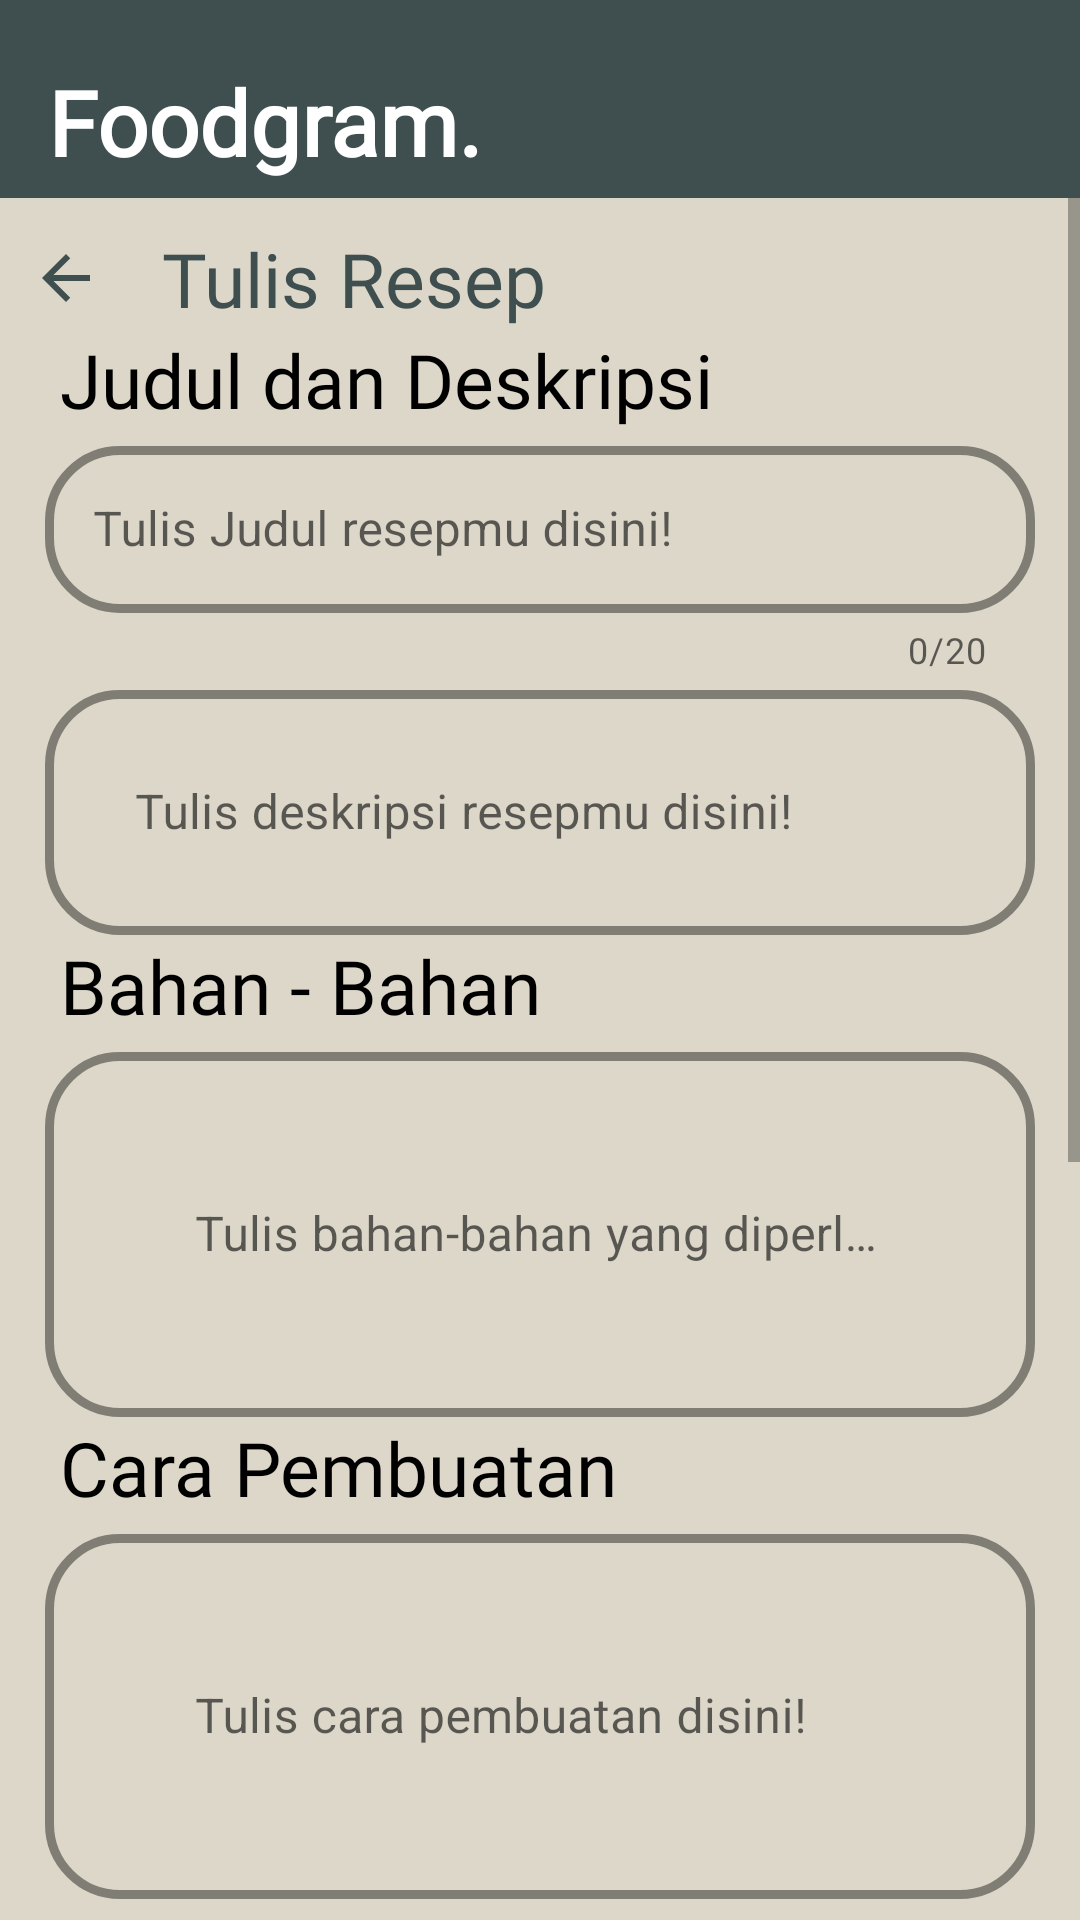

Screen size 1080x1920. Icon name, then its center in pixels as point (x, y):
backicon: point (66, 278)
